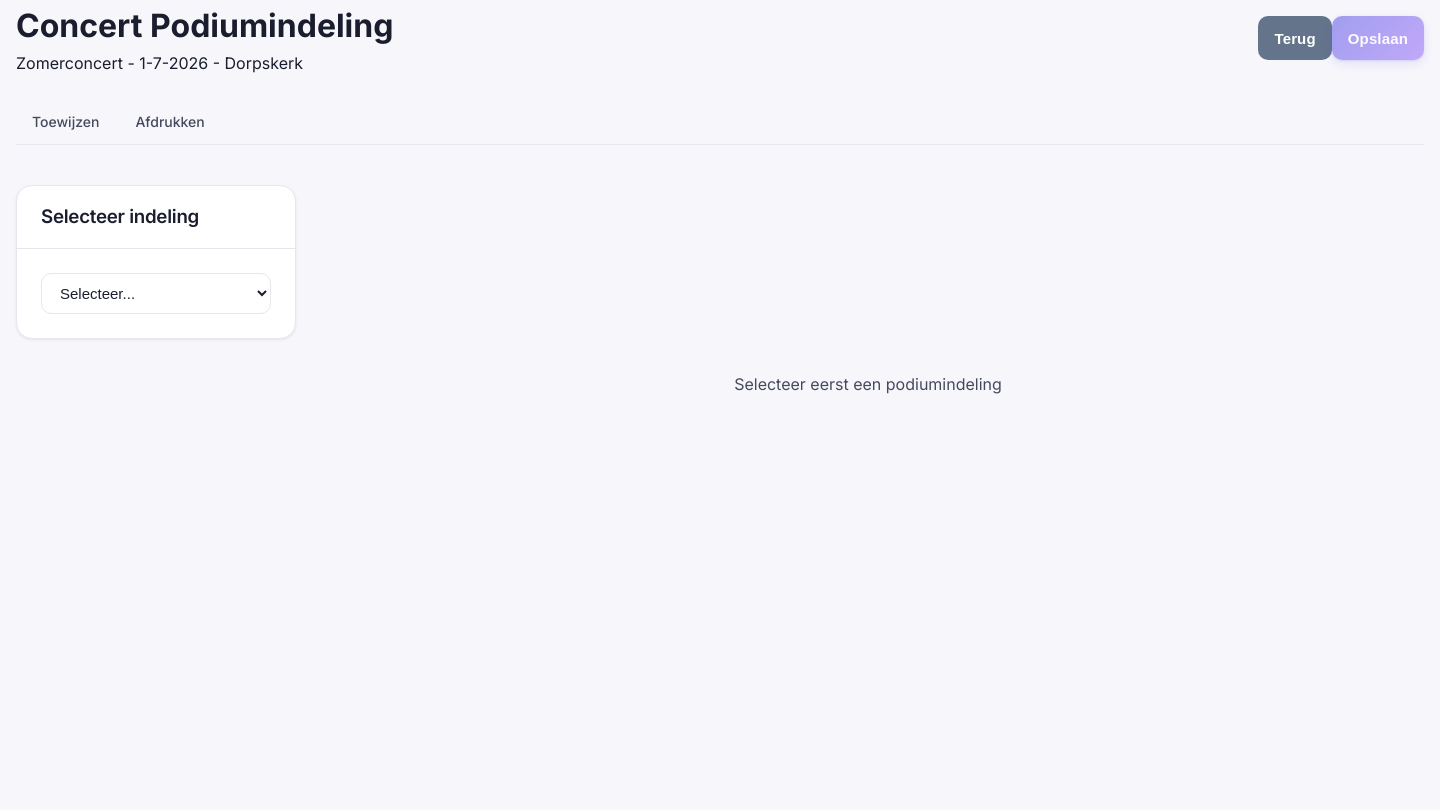
Test: concertpodium - de ledenlijst › filtert op achternaam
Expected: the button "Toewijzen" is shown, [16,101,115,144]
Select "Grote zaal" in the dropdown at coordinates (156, 293), box [41,273,271,314]
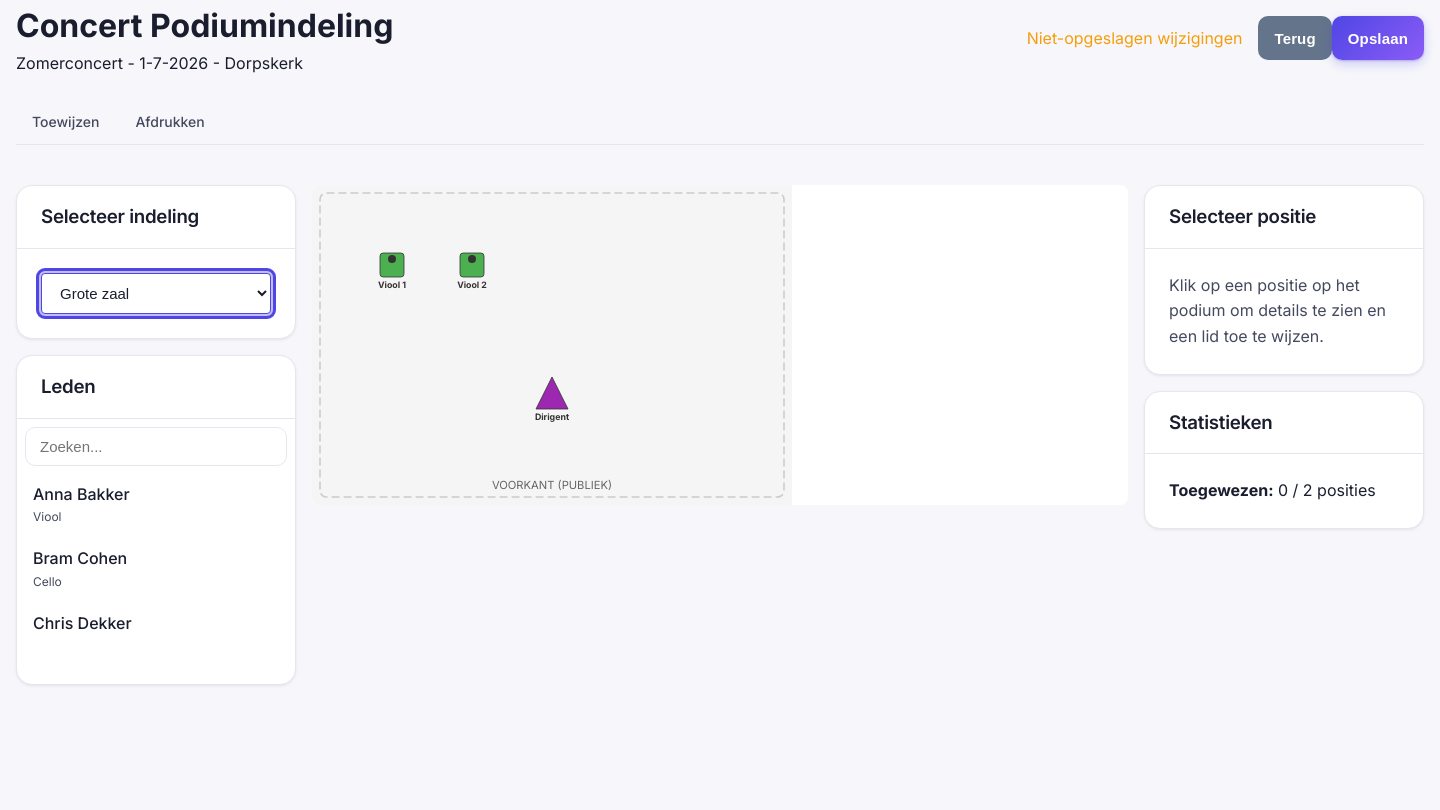
Result: the heading "Leden" is shown at [41,372,96,402]
Type "dekker" into the field with placeholder "Zoeken..." at coordinates (156, 446), box [25,427,287,466]
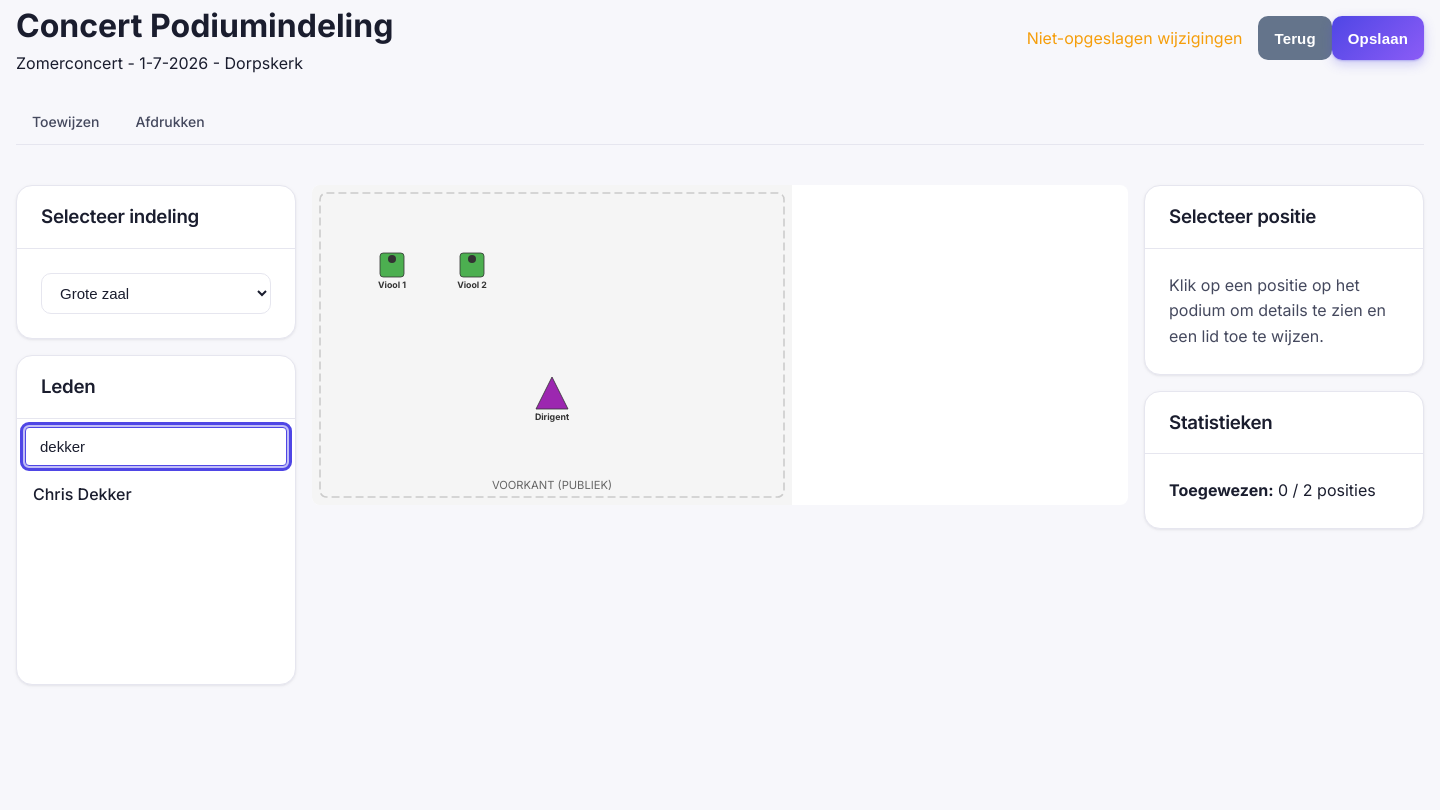
Result: the text "Chris Dekker" is shown at [33,484,132,504]
Result: the text "Anna Bakker" is gone
